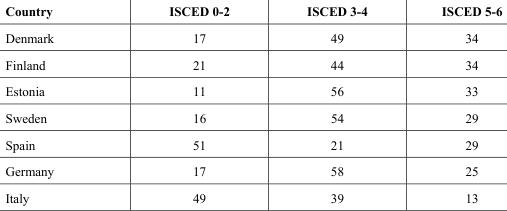table: (4, 3, 501, 204)
table column: (110, 3, 267, 204), (267, 3, 403, 204), (4, 3, 110, 204), (403, 3, 501, 204)
table column header: (4, 3, 501, 24)
table row: (4, 24, 501, 51), (4, 77, 501, 104), (4, 130, 501, 157), (4, 157, 501, 184), (4, 51, 501, 77), (4, 104, 501, 130), (4, 3, 501, 24), (4, 184, 501, 204)
